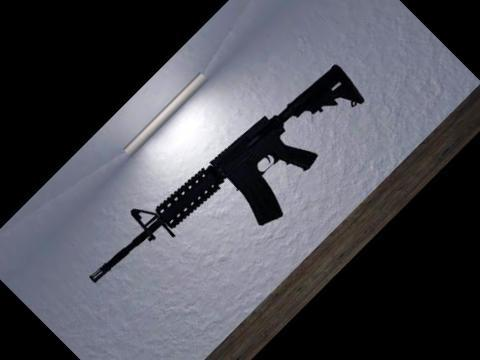larga: (89, 64, 365, 285)
